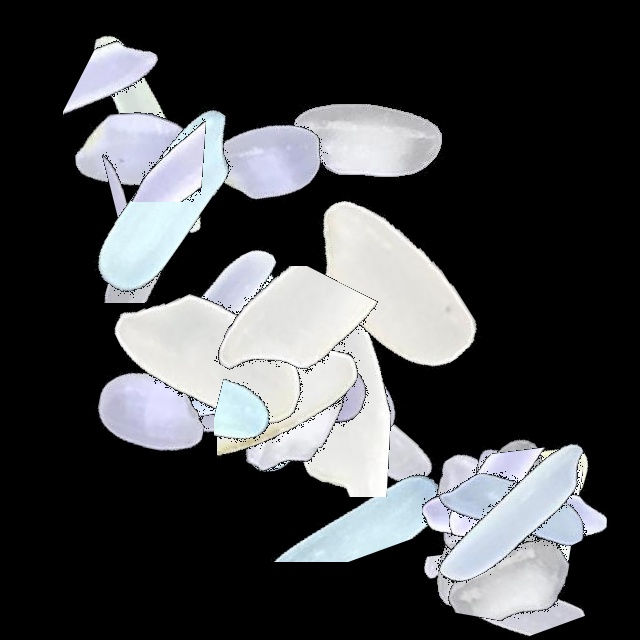Broken: (178, 323, 428, 497), (217, 279, 390, 529), (239, 248, 407, 498), (390, 473, 640, 640), (390, 455, 640, 621), (162, 266, 412, 428), (0, 142, 250, 303), (207, 416, 457, 562), (389, 495, 639, 637), (343, 349, 484, 599), (227, 311, 367, 561), (232, 205, 372, 455), (163, 257, 292, 507), (448, 390, 575, 640), (162, 301, 412, 422), (390, 470, 640, 586), (63, 0, 178, 250), (24, 92, 274, 202), (39, 135, 289, 239), (248, 207, 347, 457), (351, 550, 601, 640), (214, 293, 296, 543), (313, 218, 563, 293)
Full: (25, 10, 275, 260), (390, 390, 640, 640), (215, 265, 465, 515), (191, 204, 441, 454), (9, 25, 259, 275), (353, 390, 603, 640), (147, 240, 397, 490), (384, 390, 634, 640), (390, 378, 640, 628), (244, 16, 494, 266), (144, 37, 394, 287), (185, 254, 435, 504), (266, 160, 516, 410), (390, 380, 640, 630), (88, 189, 338, 439), (127, 250, 377, 500), (106, 262, 356, 512), (72, 267, 322, 517), (171, 288, 421, 538), (44, 74, 294, 324), (25, 287, 275, 537), (85, 239, 335, 489)
